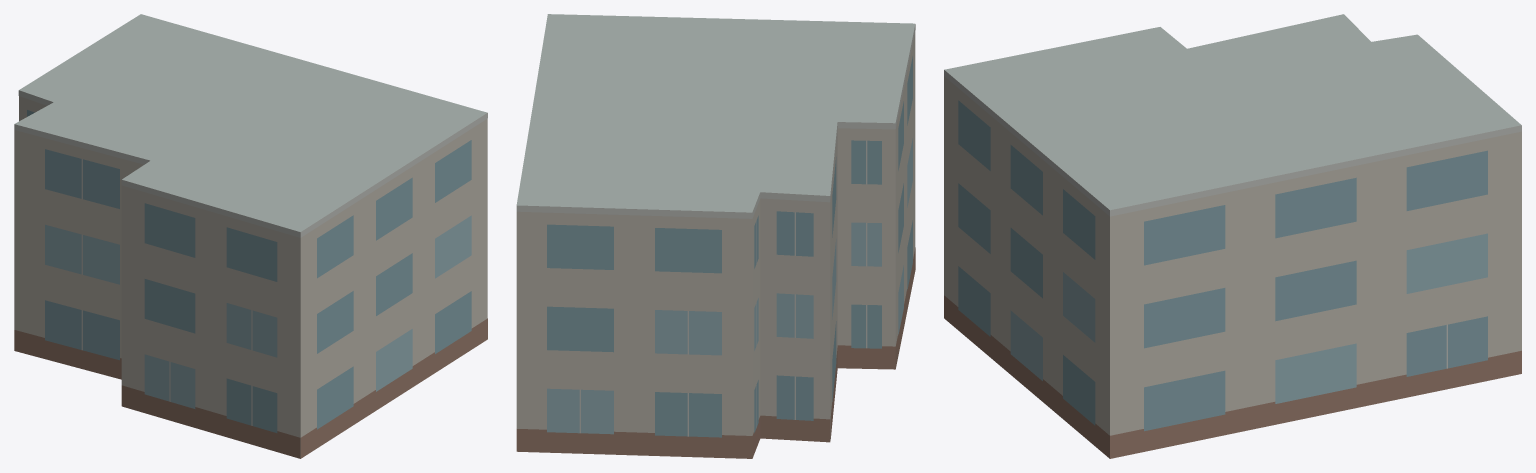
File: survey-upis-32736072.glb
3 views of the same model, side by side, from view 1: azimuth 30°, elevation 25°; view 2: azimuth 150°, elevation 25°; view 3: azimuth 270°, elevation 25° (orthographic). The views are drawn at different scales.
Parts seen in each view (by area): view 1: survey-upis-32736072.tmp; view 2: survey-upis-32736072.tmp; view 3: survey-upis-32736072.tmp.
Boxes of the visible parts, bbox=[...] form: survey-upis-32736072.tmp: bbox=[14, 14, 487, 458]; survey-upis-32736072.tmp: bbox=[516, 14, 915, 458]; survey-upis-32736072.tmp: bbox=[944, 14, 1521, 458].
Bounding box in the file's own units: 16.26 × 9.6 × 20.23.
